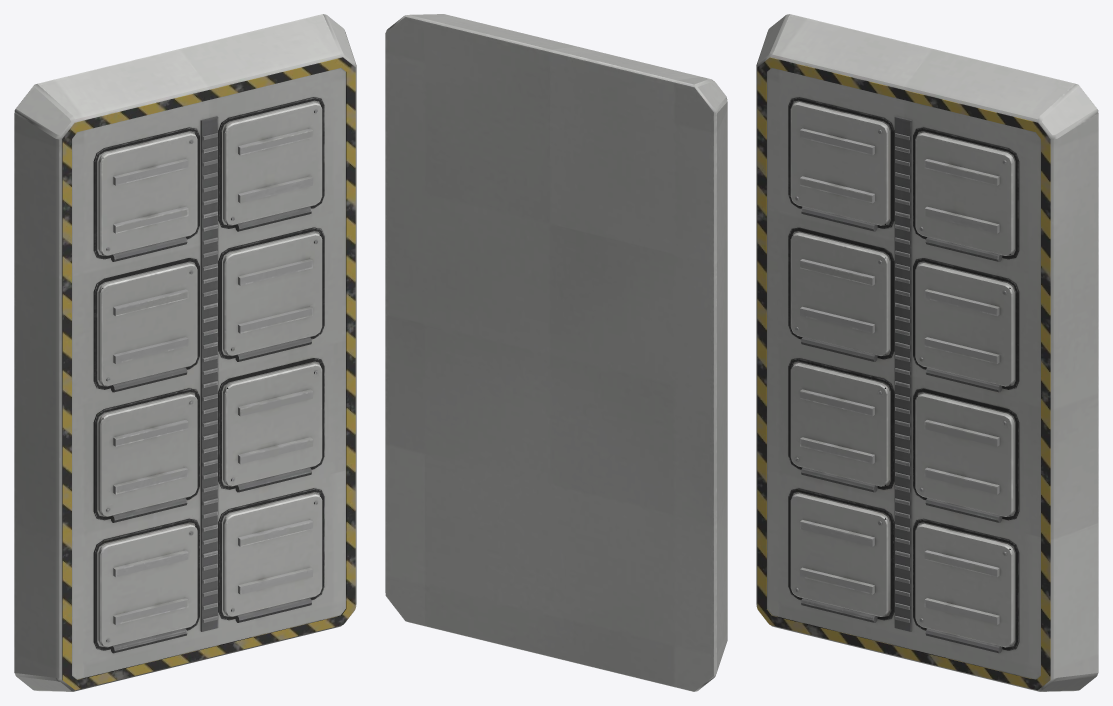
File: missilePod.glb
3 views of the same model, side by side, from view 1: azimuth 30°, elevation 25°; view 2: azimuth 150°, elevation 25°; view 3: azimuth 330°, elevation 25° (orthographic).
Visible parts, largest first — view 1: missilePod; view 2: missilePod; view 3: missilePod.
Part boxes in pixels (x1,y1,x2,y2): missilePod: (14,14,356,691); missilePod: (385,14,727,691); missilePod: (756,14,1098,691).
Bounding box in the file's own units: 3.19 × 5.59 × 0.59.
Materials: 1 (1 with a texture image).
